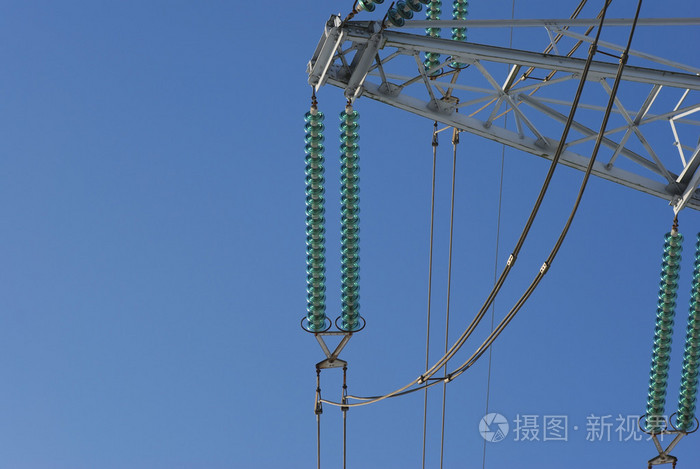insulator: (642, 229, 685, 429), (338, 108, 368, 334), (301, 111, 330, 336), (674, 245, 700, 431), (425, 1, 443, 75), (450, 1, 470, 67), (383, 1, 426, 26)
